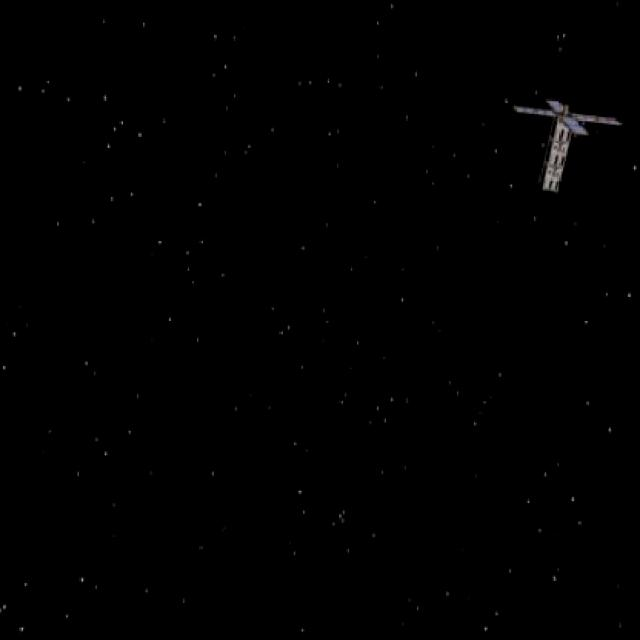satellite: (480, 84, 621, 204)
